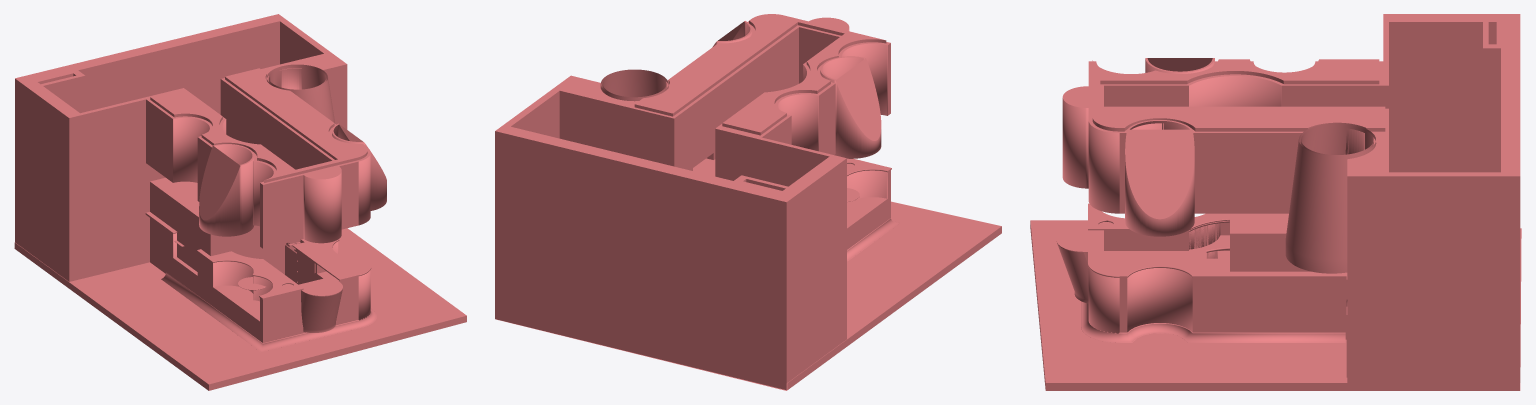
File: asset.glb
The picture shows the model from 3 angles, left to right: view 1: azimuth 30°, elevation 25°; view 2: azimuth 150°, elevation 25°; view 3: azimuth 270°, elevation 25°; orthographic projection. The views are drawn at different scales.
Visible parts, largest first — view 1: the final model.001, Cube.001; view 2: the final model.001; view 3: the final model.001, Cube.001.
Part boxes in pixels (left/top/right/bottom): the final model.001: left=14, top=14, right=466, bottom=390; Cube.001: left=150, top=177, right=286, bottom=274; the final model.001: left=495, top=14, right=1001, bottom=390; the final model.001: left=1030, top=14, right=1521, bottom=390; Cube.001: left=1230, top=213, right=1310, bottom=271.
Bounding box in the file's own units: 4.98 × 3.12 × 6.36.
